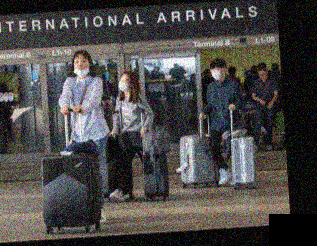mask_weared_incorrect: (72, 56, 89, 79)
with_mask: (117, 75, 131, 94), (210, 66, 223, 81)
without_mask: (258, 69, 267, 80)
